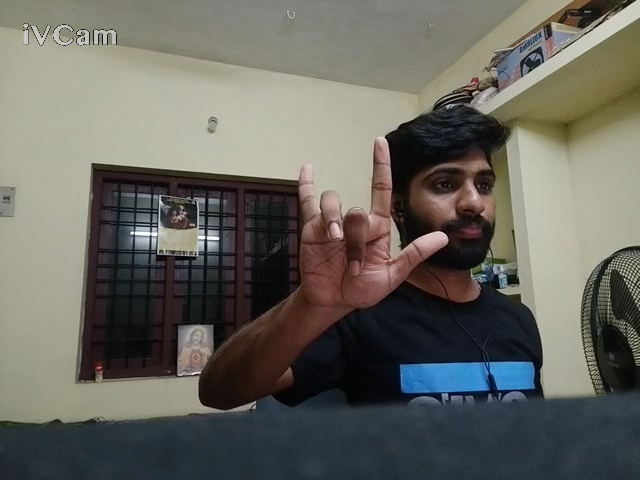I Love You: (261, 122, 462, 323)
